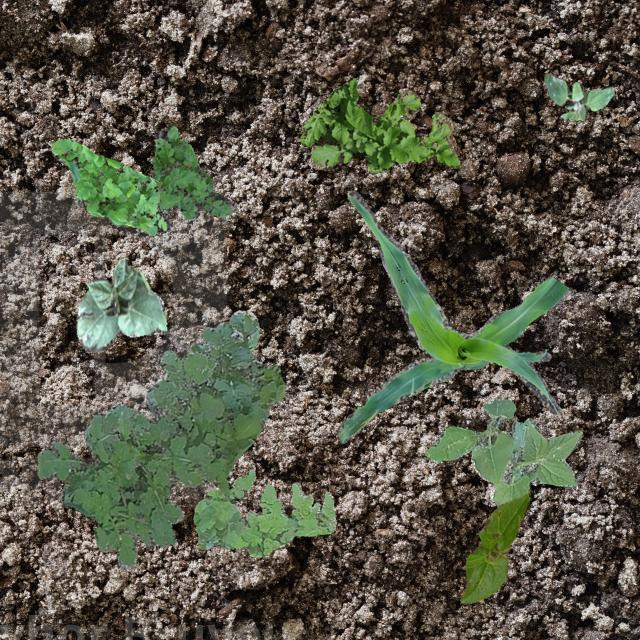crop: (336, 190, 570, 442), (74, 258, 166, 350), (461, 493, 528, 602)
weed: (36, 310, 284, 568), (424, 398, 582, 506), (298, 77, 458, 172), (192, 468, 336, 556), (50, 138, 170, 235), (152, 124, 236, 218), (542, 72, 612, 120), (190, 328, 258, 352)
